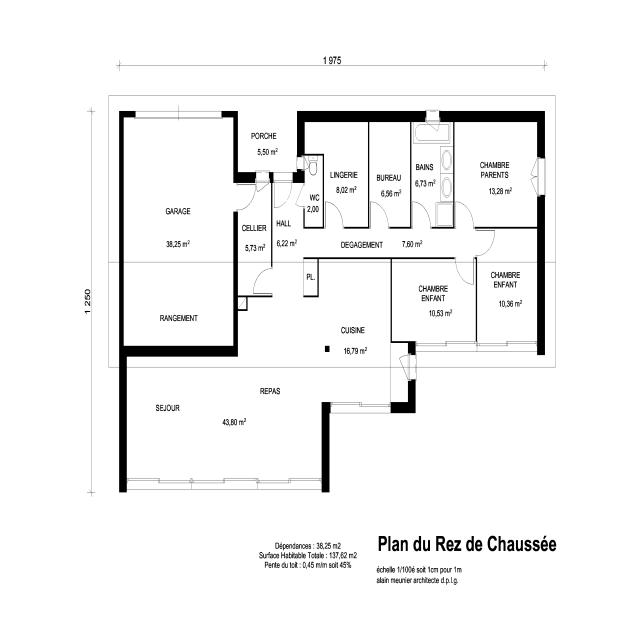door: (271, 174, 294, 211), (232, 180, 256, 214), (454, 198, 476, 229), (474, 228, 497, 257), (411, 198, 432, 229), (531, 154, 545, 200), (369, 198, 390, 228), (324, 200, 345, 229), (252, 266, 273, 295), (454, 256, 474, 286), (253, 171, 271, 196), (292, 184, 305, 212)
window: (134, 474, 193, 490), (328, 397, 390, 412), (133, 105, 179, 123), (178, 106, 224, 122), (530, 153, 545, 200), (423, 109, 442, 122)
zone: (120, 111, 234, 351), (121, 352, 322, 483), (321, 256, 392, 402), (453, 120, 540, 228), (236, 176, 305, 297), (475, 226, 539, 344), (391, 258, 476, 344), (304, 120, 368, 228), (411, 120, 454, 228), (368, 119, 411, 227), (301, 154, 324, 226), (304, 259, 318, 296)
